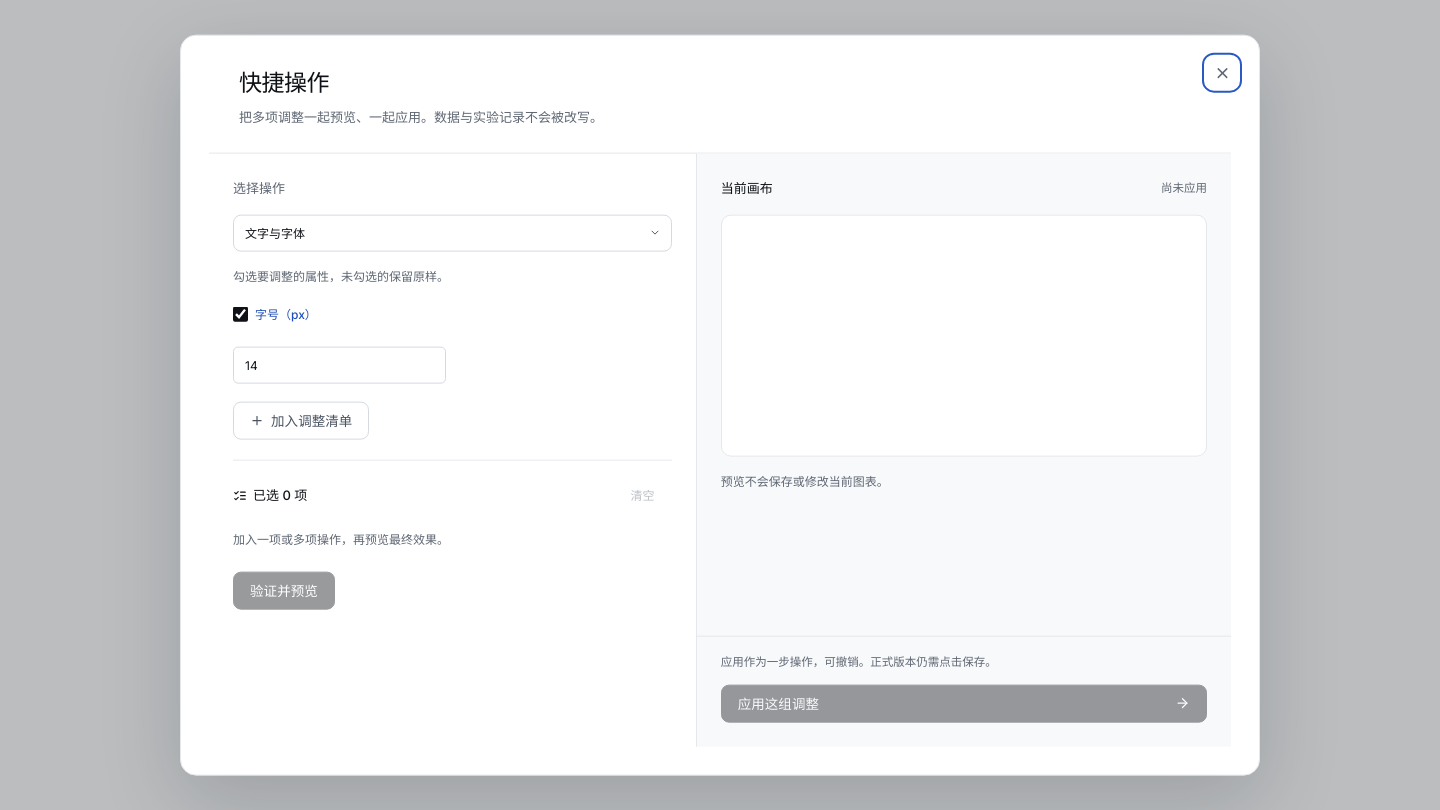
Test: figure tool preparation › server failure cannot apply and removing the last operation disables retry
The image size is (1440, 810).
Expected: the number field named "字号（px）" is shown, [233,346,446,383]
Click the button "加入调整清单" at (301, 420), box [233,401,369,439]
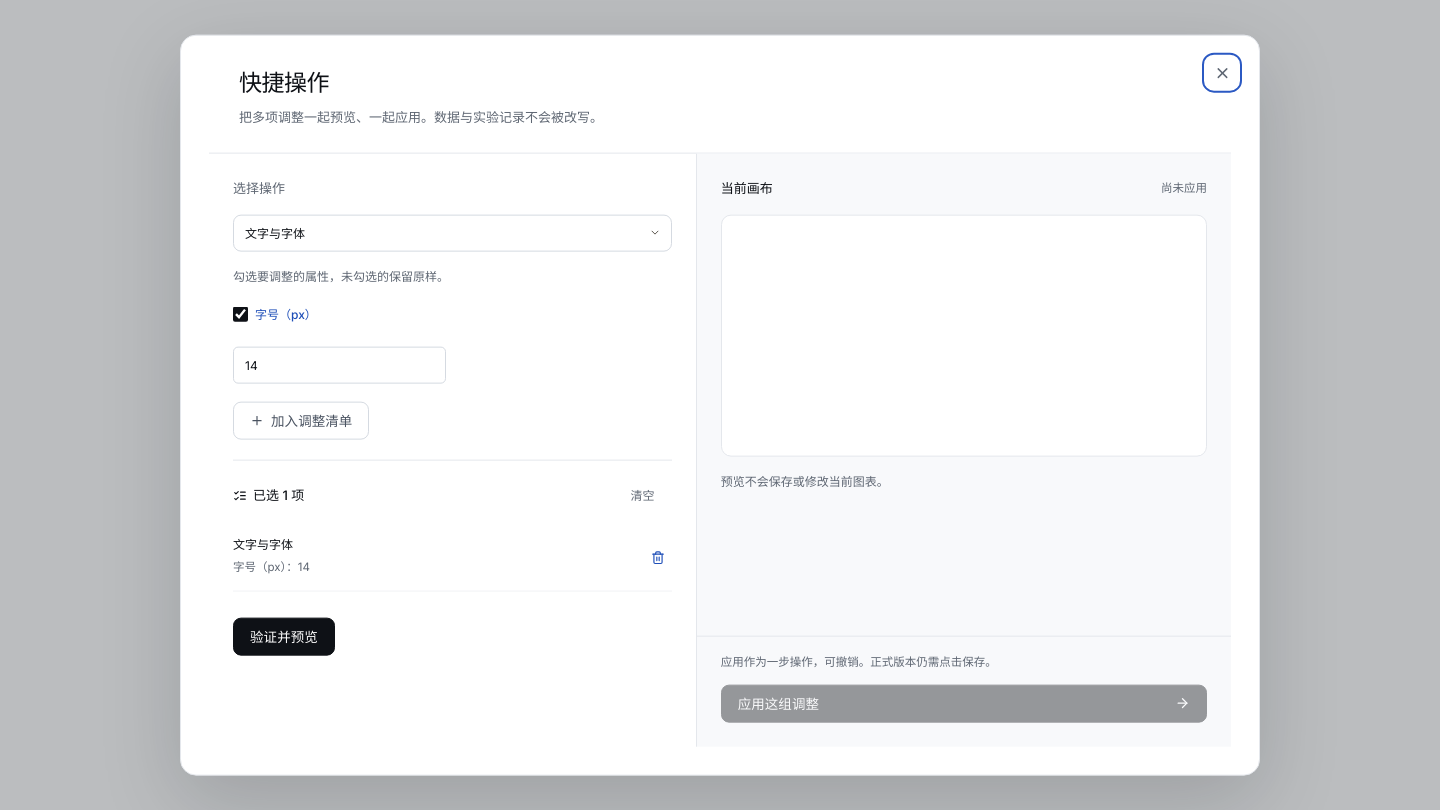
Click the button "验证并预览" at (284, 637), box [233,618,335,656]
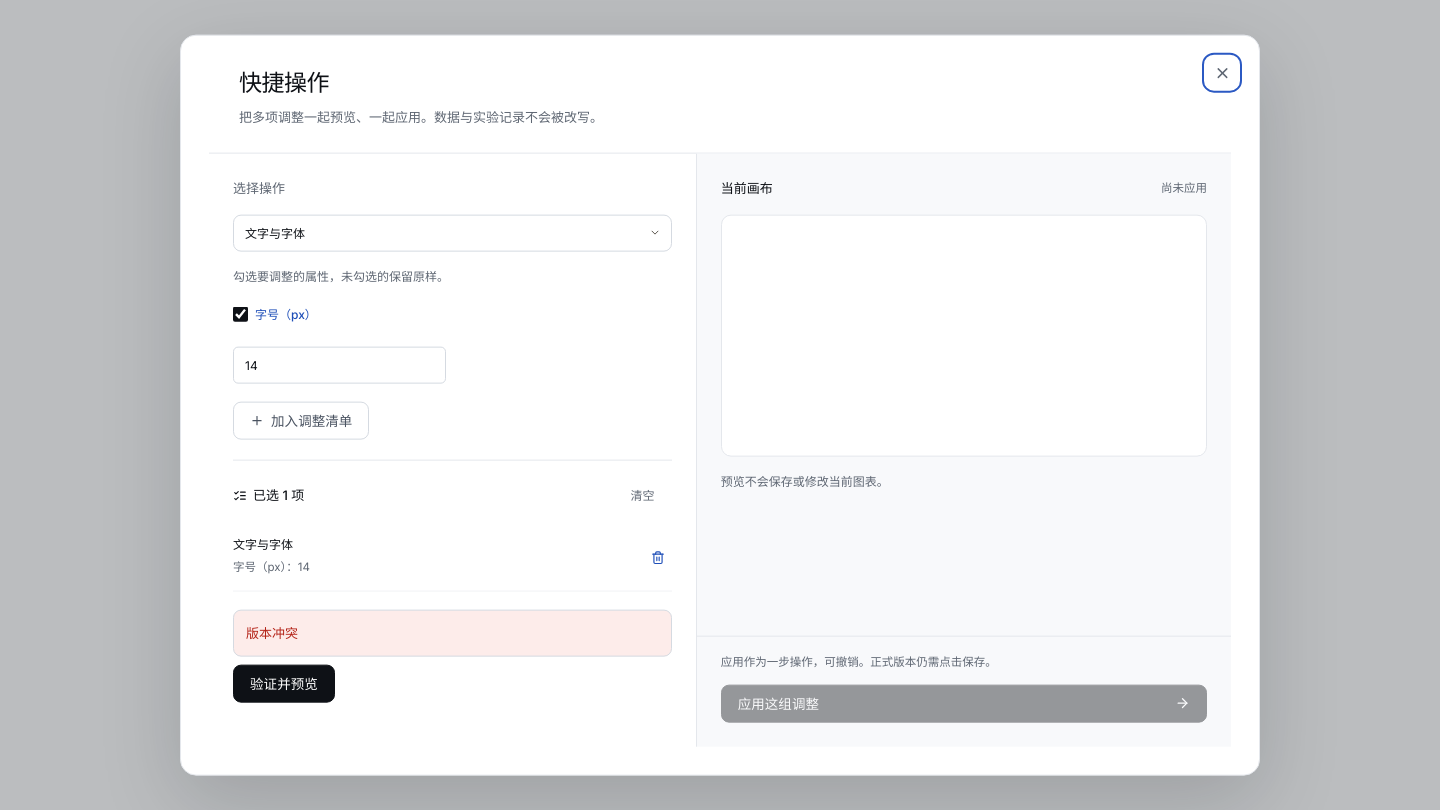
Expected: the button "应用这组调整" is disabled, [721,684,1207,722]
Result: the message reads "版本冲突" at [246,625,298,641]
Click the button named "移除第 1 项调整" at (658, 558), box [644,544,672,572]
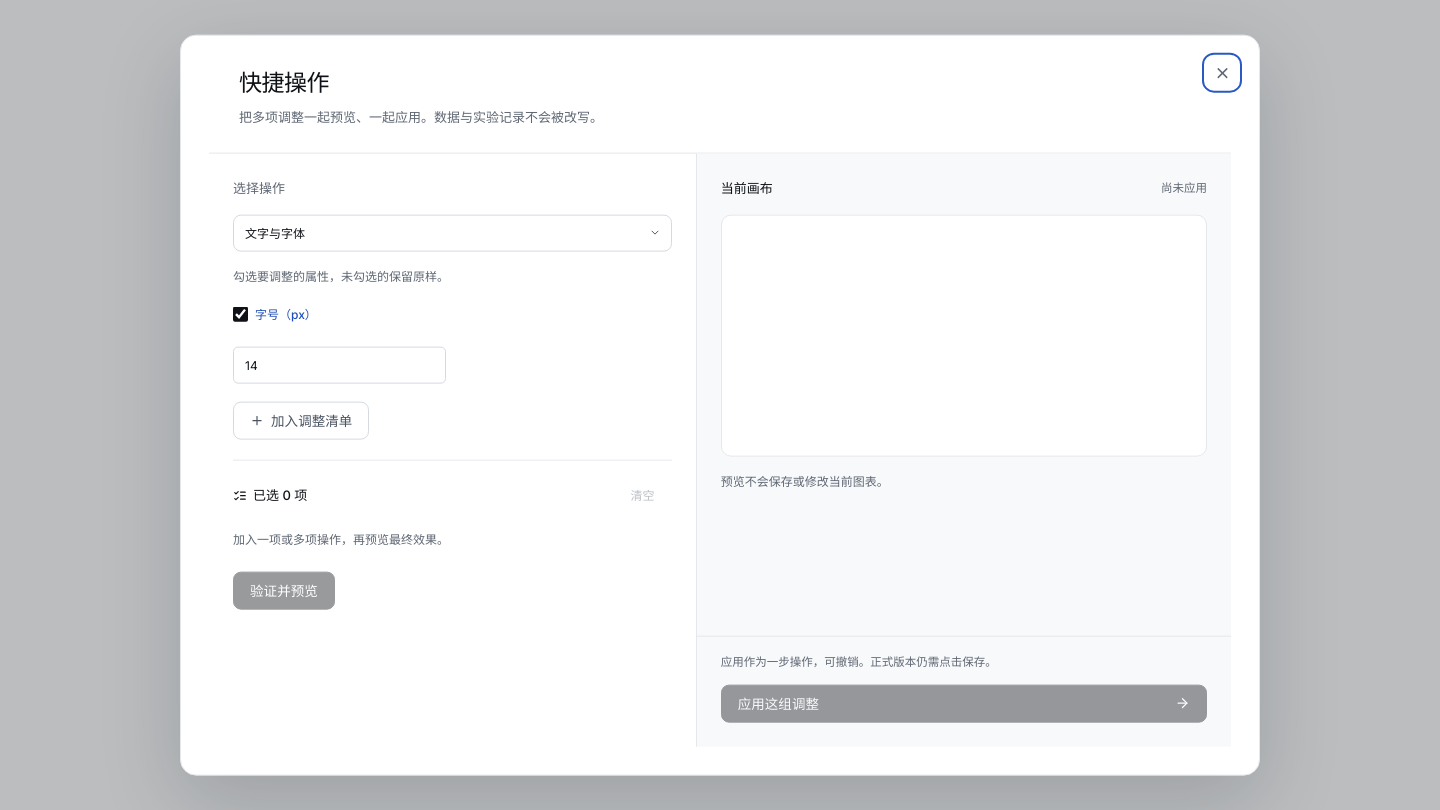
Result: the button "验证并预览" is disabled at [233,572,335,610]
